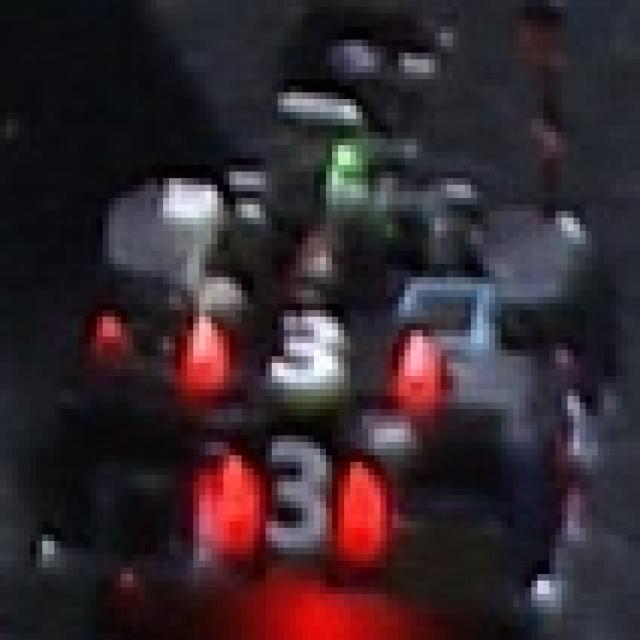R3: (169, 267, 447, 406), (169, 416, 386, 568)
